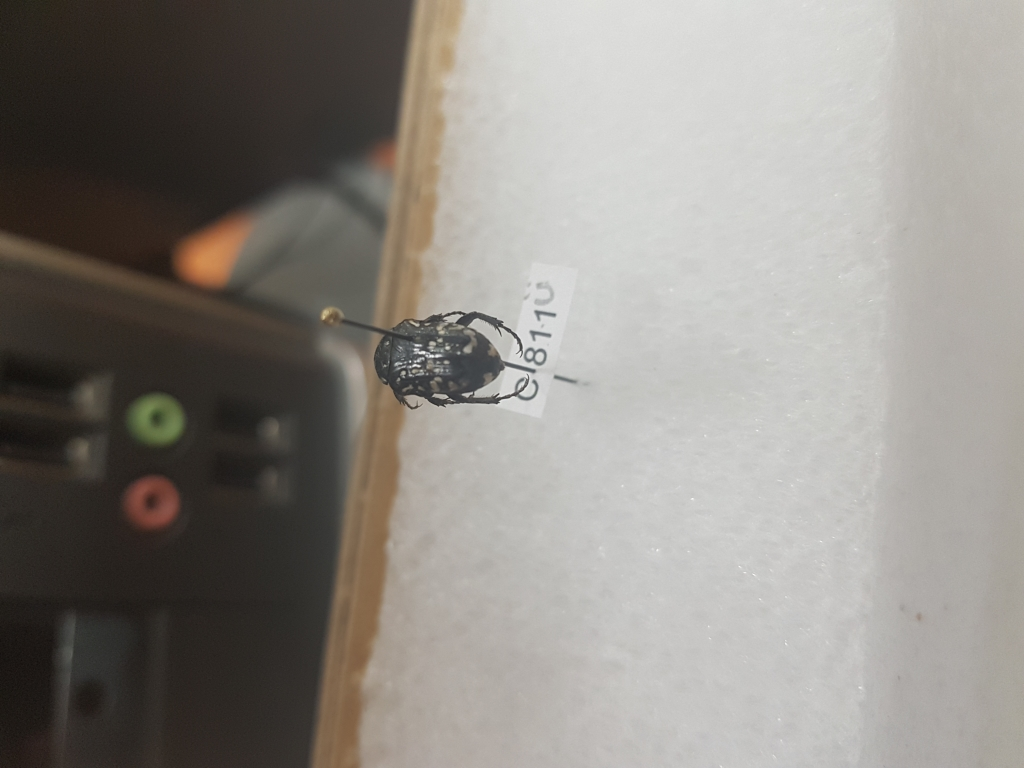Oxythyrea_albopicta: (367, 306, 532, 412)
